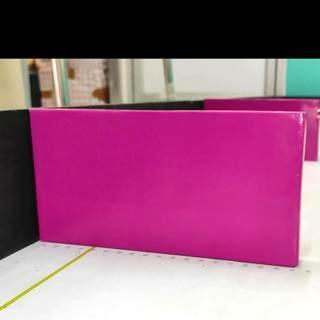xparking: (38, 109, 302, 265)
